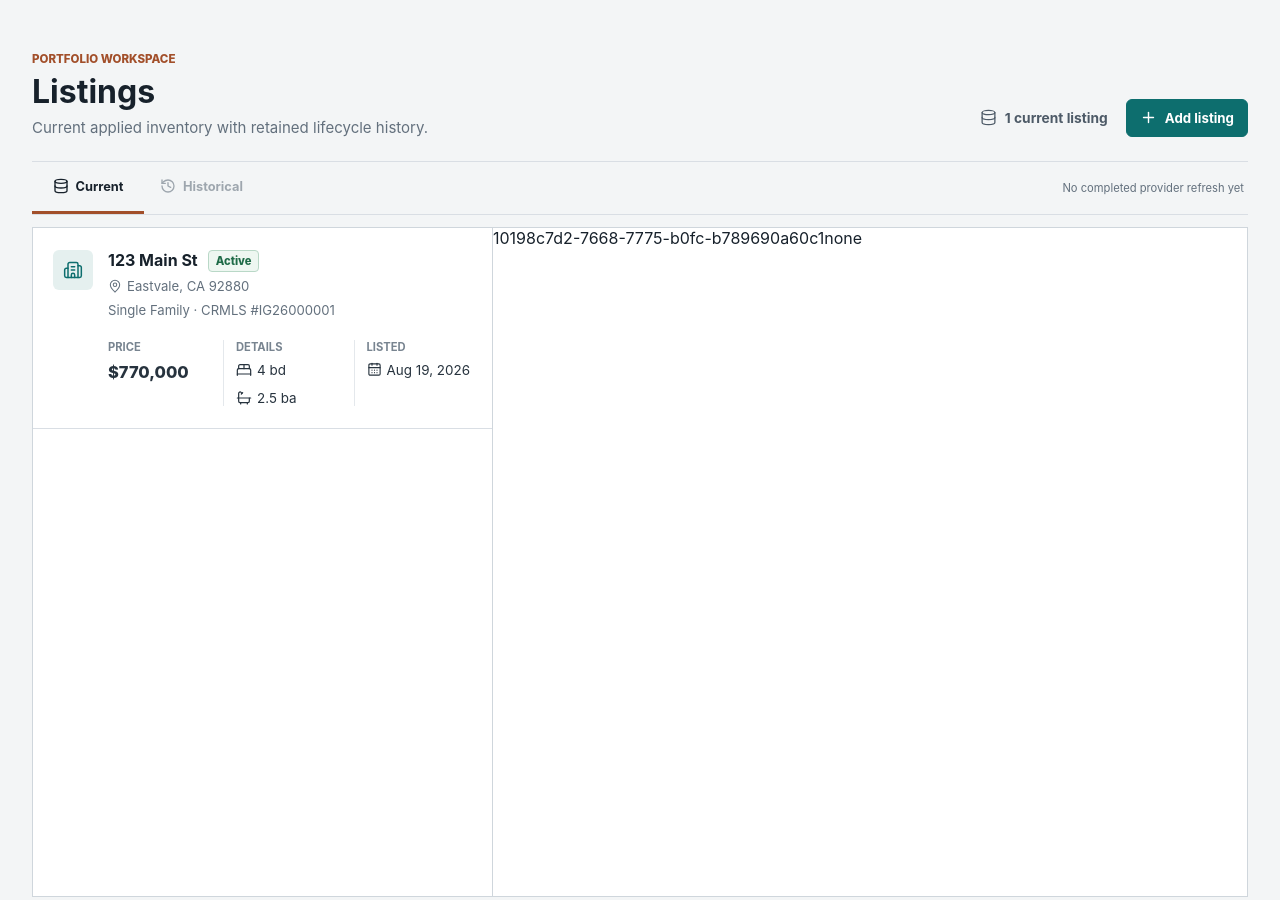
Scenario: ListingsScreen › renders one current card and map point with the latest price and stable selection
Expected: the text "$770,000" is shown, x1=108 y1=362 x2=189 y2=382
Expected: the text with test id "map-listing-count" reads "1", x1=493 y1=228 x2=500 y2=248
Click the button with aria-label "123 Main St, Eastvale, CA 92880" at (73,270), box x1=33 y1=228 x2=492 y2=429
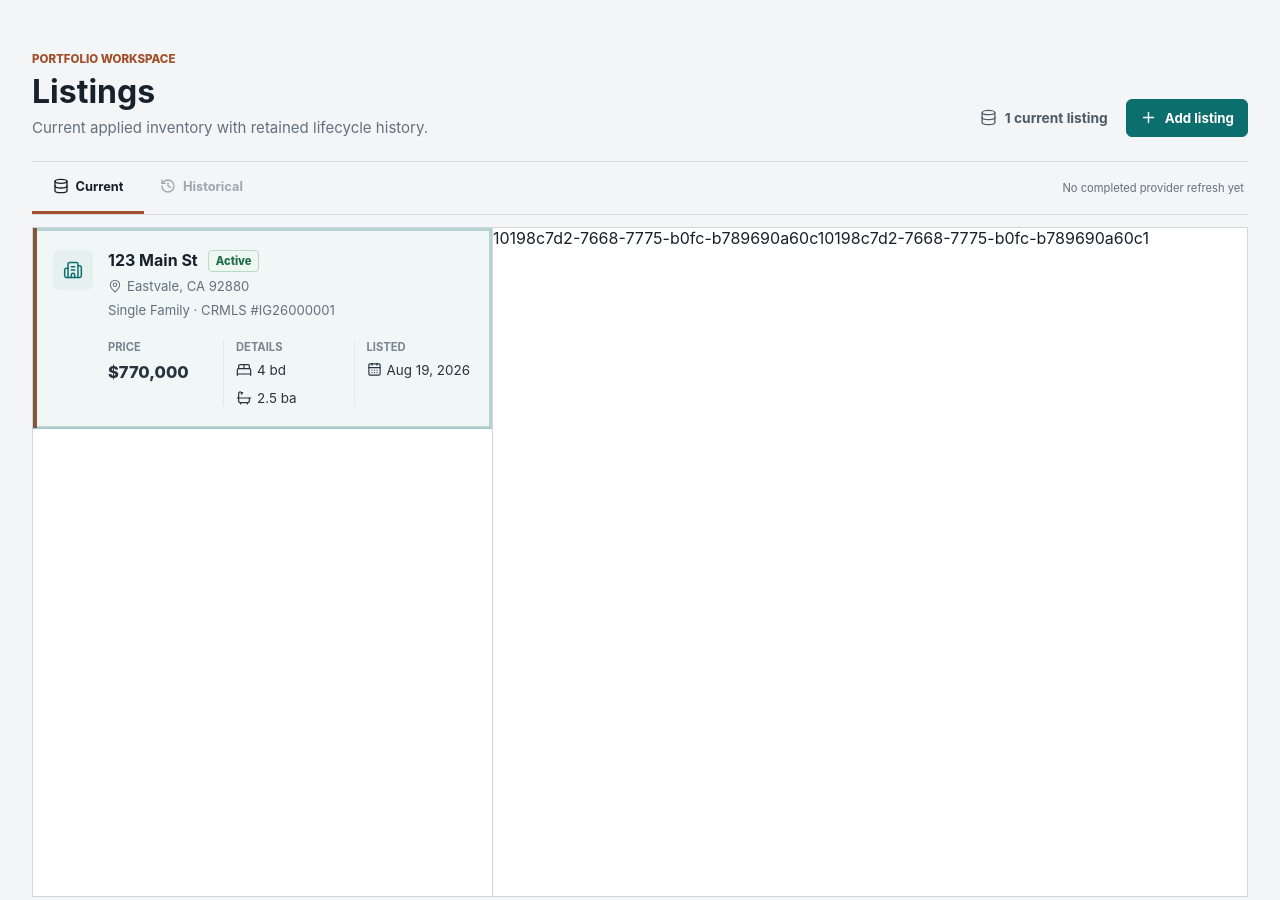
Expected: the text with test id "map-selection" reads "0198c7d2-7668-7775-b0fc-b789690a60c1", x1=824 y1=228 x2=1149 y2=248
